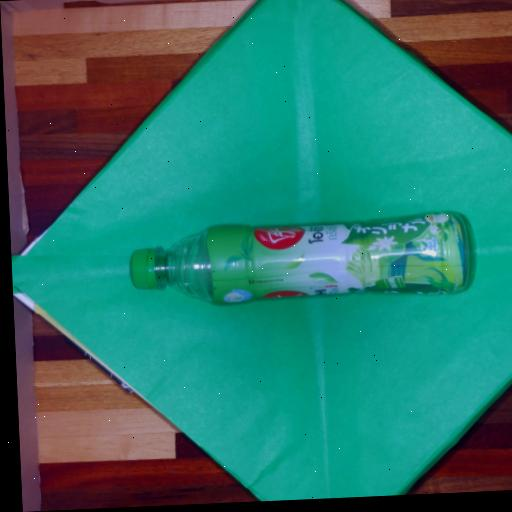bottle: (131, 212, 468, 303)
